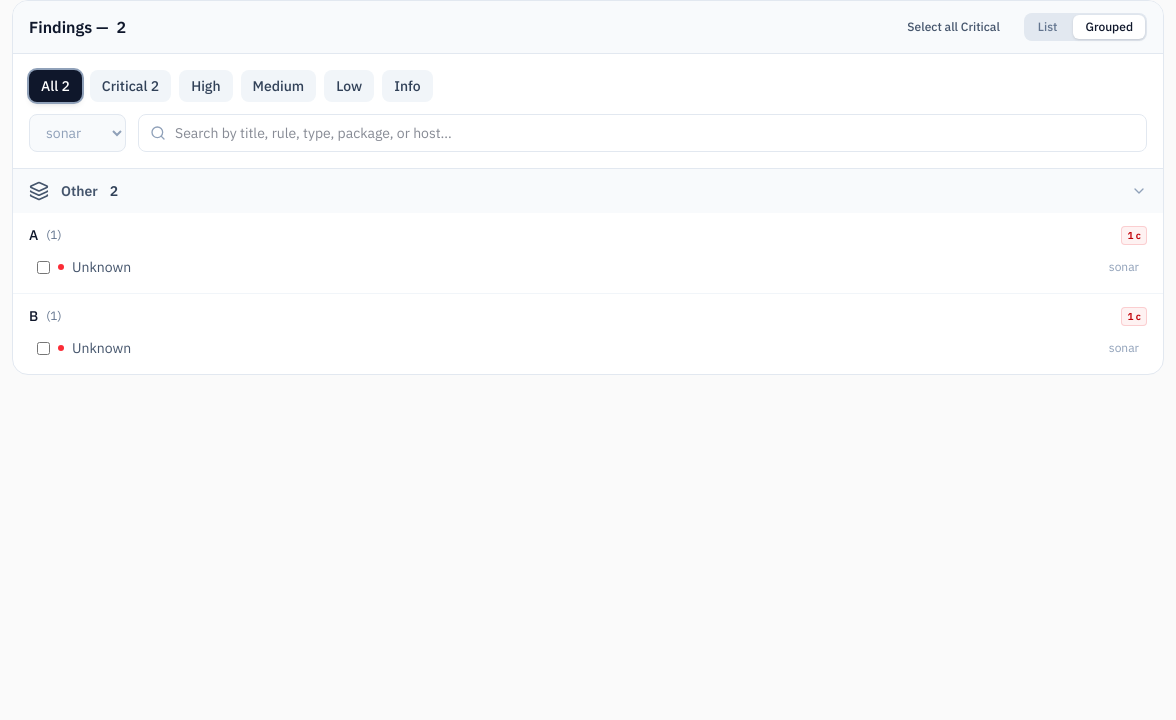
Test case: a failed create for one selected finding does not stop the rest of the batch
Click the button "Select all Critical". click: (954, 27)
box: [895,15,1012,39]
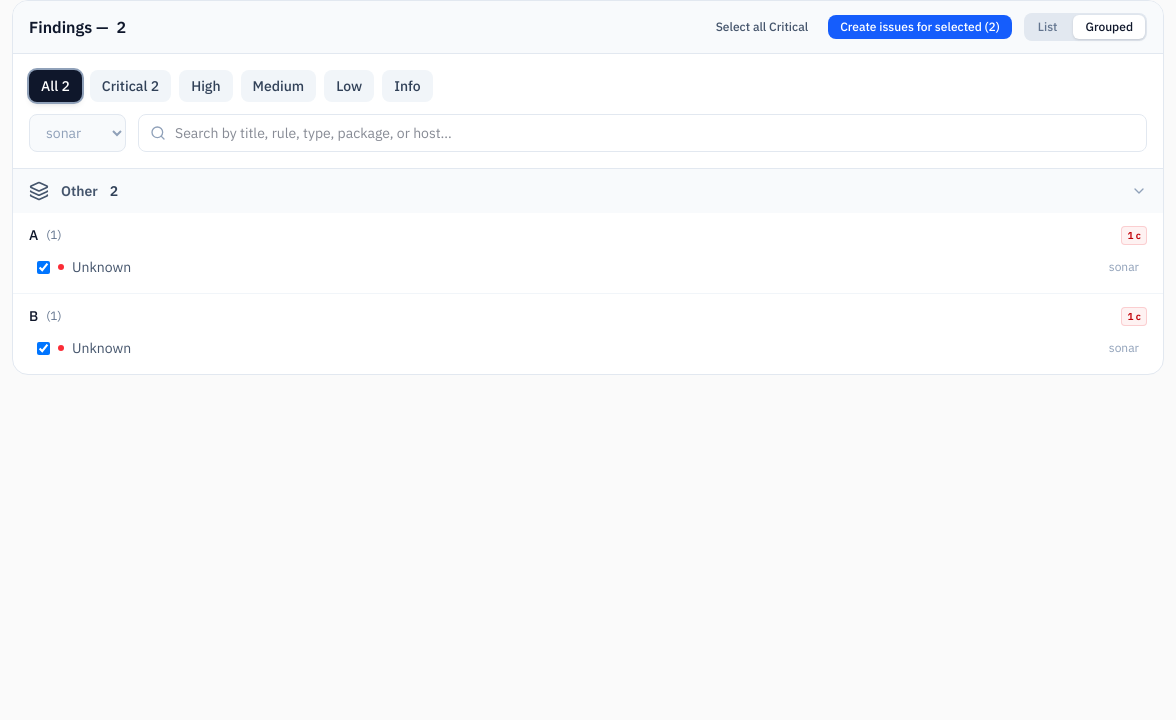
Click the button "Create issues for selected (2)". click: (920, 27)
box: [828,15,1012,39]
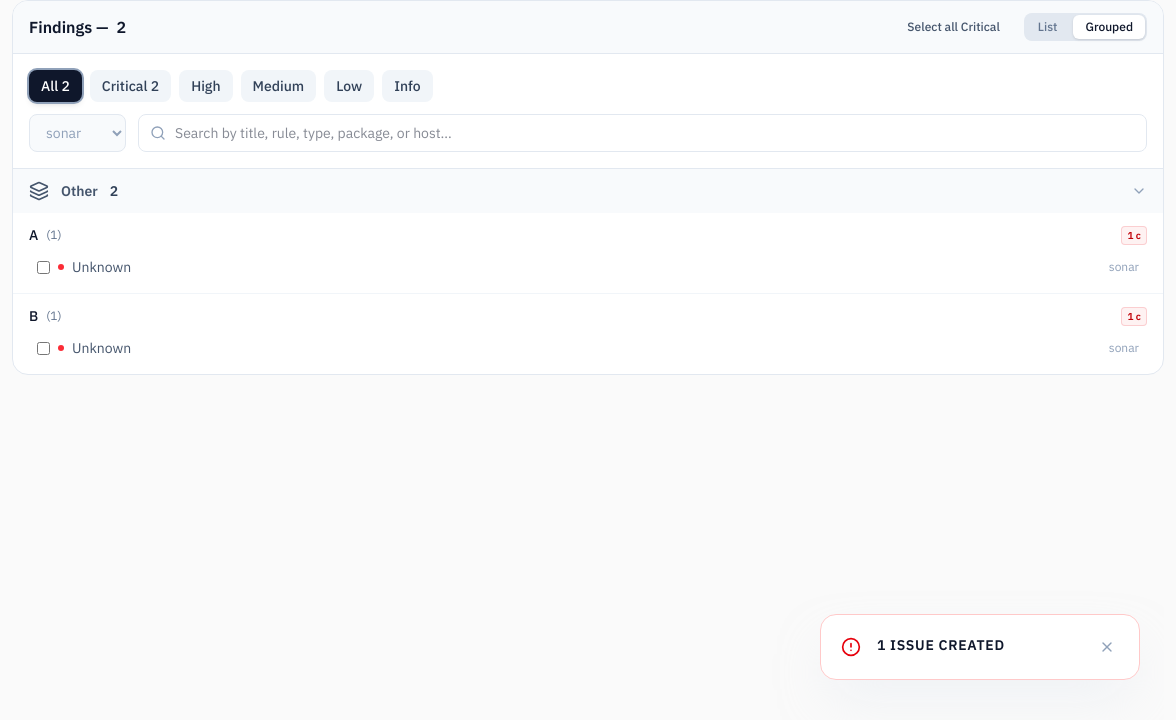
Check: the heading "1 issue created" is shown, box [877,636,1005,654]
